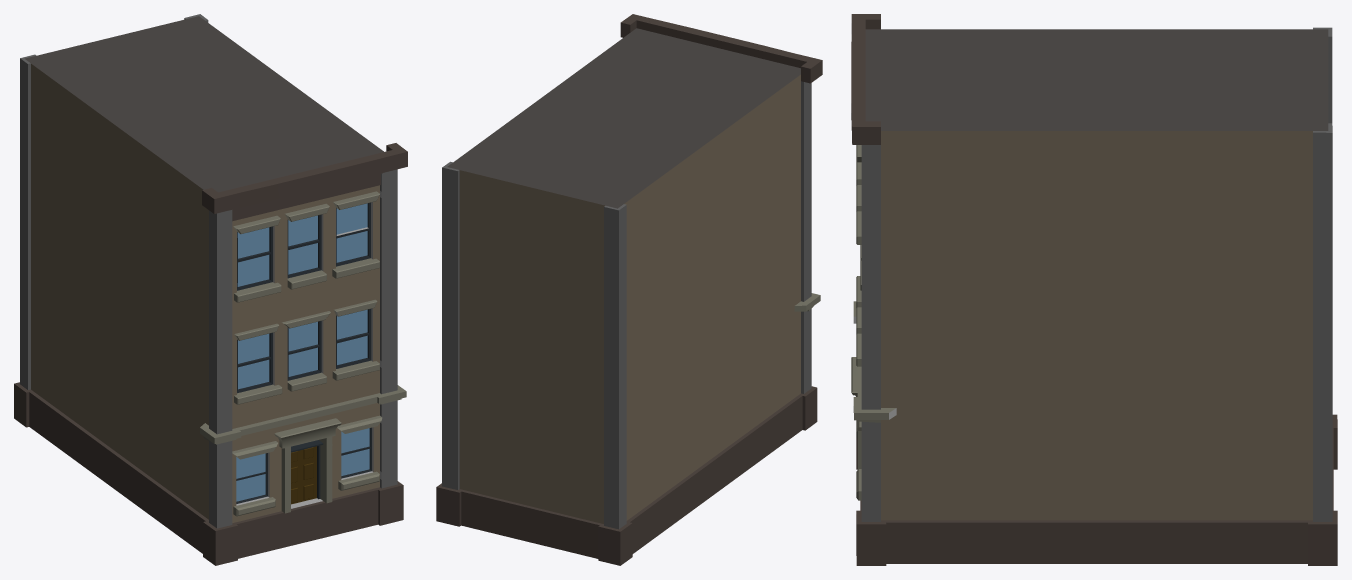
Rendered from Apartment 1.fbx.
The picture shows the model from 3 angles, left to right: view 1: azimuth 30°, elevation 25°; view 2: azimuth 150°, elevation 25°; view 3: azimuth 270°, elevation 25°; orthographic projection. The views are drawn at different scales.
Parts seen in each view (by area): view 1: pasted__pasted__pasted__pCube1; view 2: pasted__pasted__pasted__pCube1; view 3: pasted__pasted__pasted__pCube1.
Boxes of the visible parts, <box> form: pasted__pasted__pasted__pCube1: <box>14,14,407,565</box>; pasted__pasted__pasted__pCube1: <box>436,14,822,565</box>; pasted__pasted__pasted__pCube1: <box>851,14,1337,565</box>.
Bounding box in the file's own units: 325 × 591 × 591.
